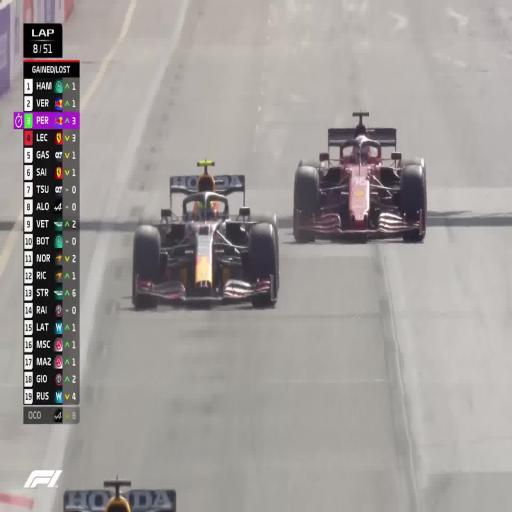f1_car: (132, 161, 278, 308), (293, 112, 426, 241), (64, 477, 176, 511)
